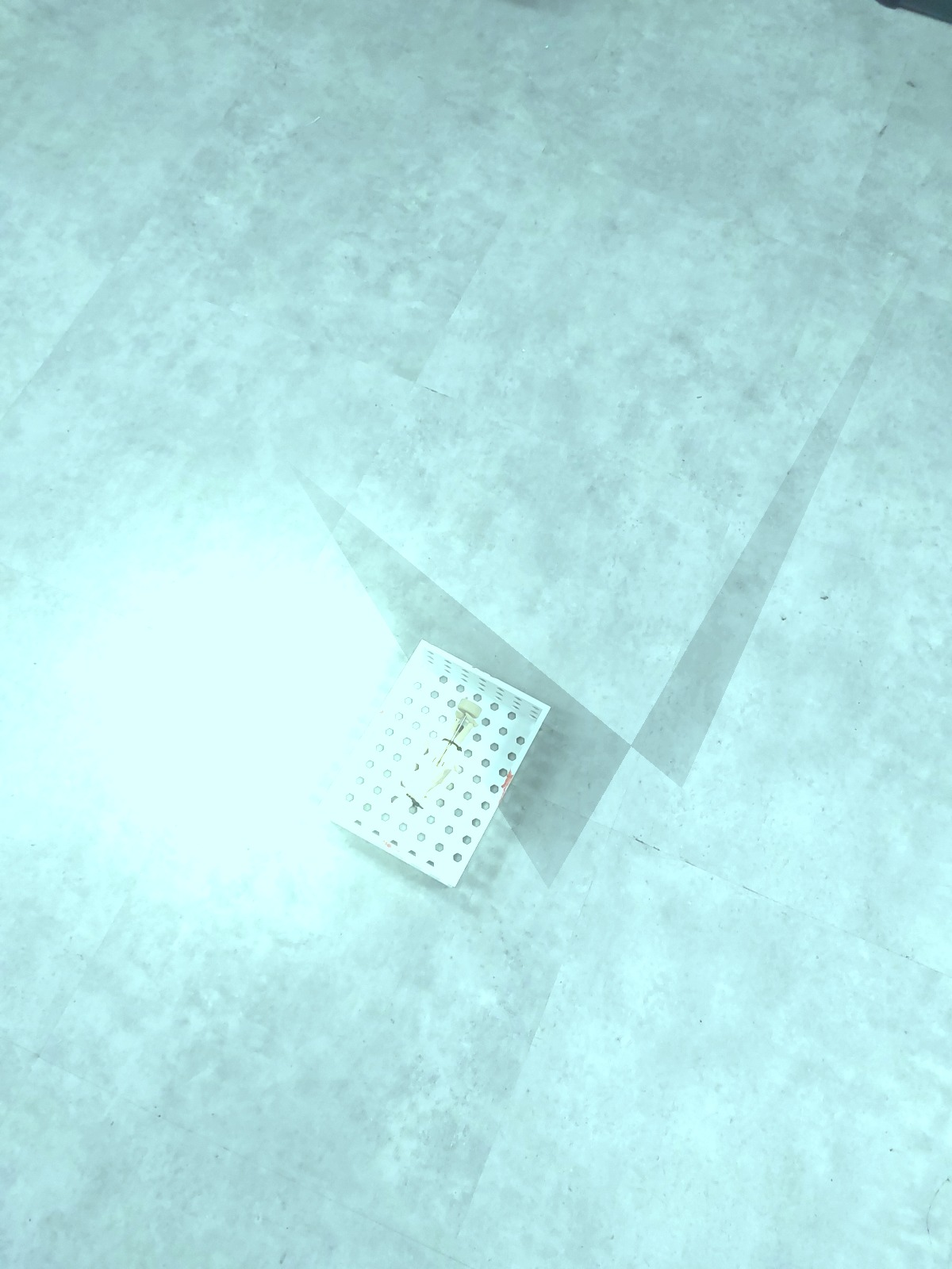basket: (313, 634, 555, 893)
mannequin: (388, 697, 485, 814)
